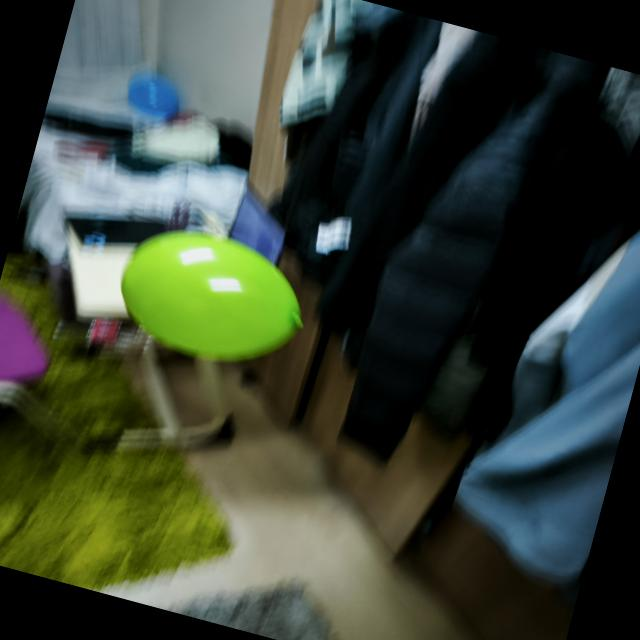balloon: (121, 230, 302, 361), (127, 71, 178, 125)
